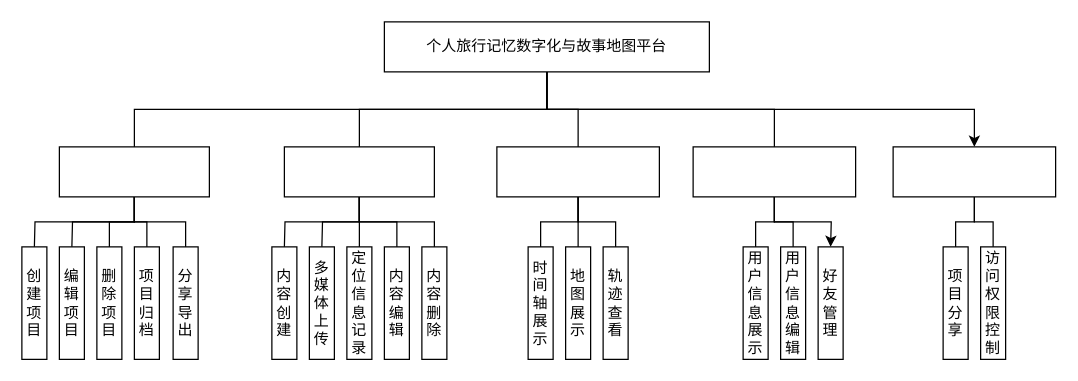
Some shapes in this 1078 by 381 pixel diagram are drawn without their labels. The shapes that lost their labels are listed below. From the top down, each one's box as (x1, y1, x2, y2) in pixels, then its label:
(58, 146, 209, 197): 项目管理模块
(283, 146, 434, 197): 记录管理模块
(496, 146, 659, 197): 时间轴与地图展示模块
(692, 146, 856, 197): 个人中心模块
(892, 146, 1056, 197): 分享与隐私管理
